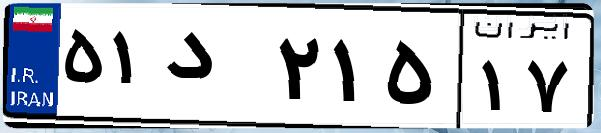1: (330, 28, 385, 110), (475, 38, 525, 113), (110, 28, 158, 98)
2: (270, 28, 330, 110)
5: (385, 28, 445, 110), (57, 26, 110, 100)
7: (525, 38, 570, 115)
د: (158, 20, 270, 120)
